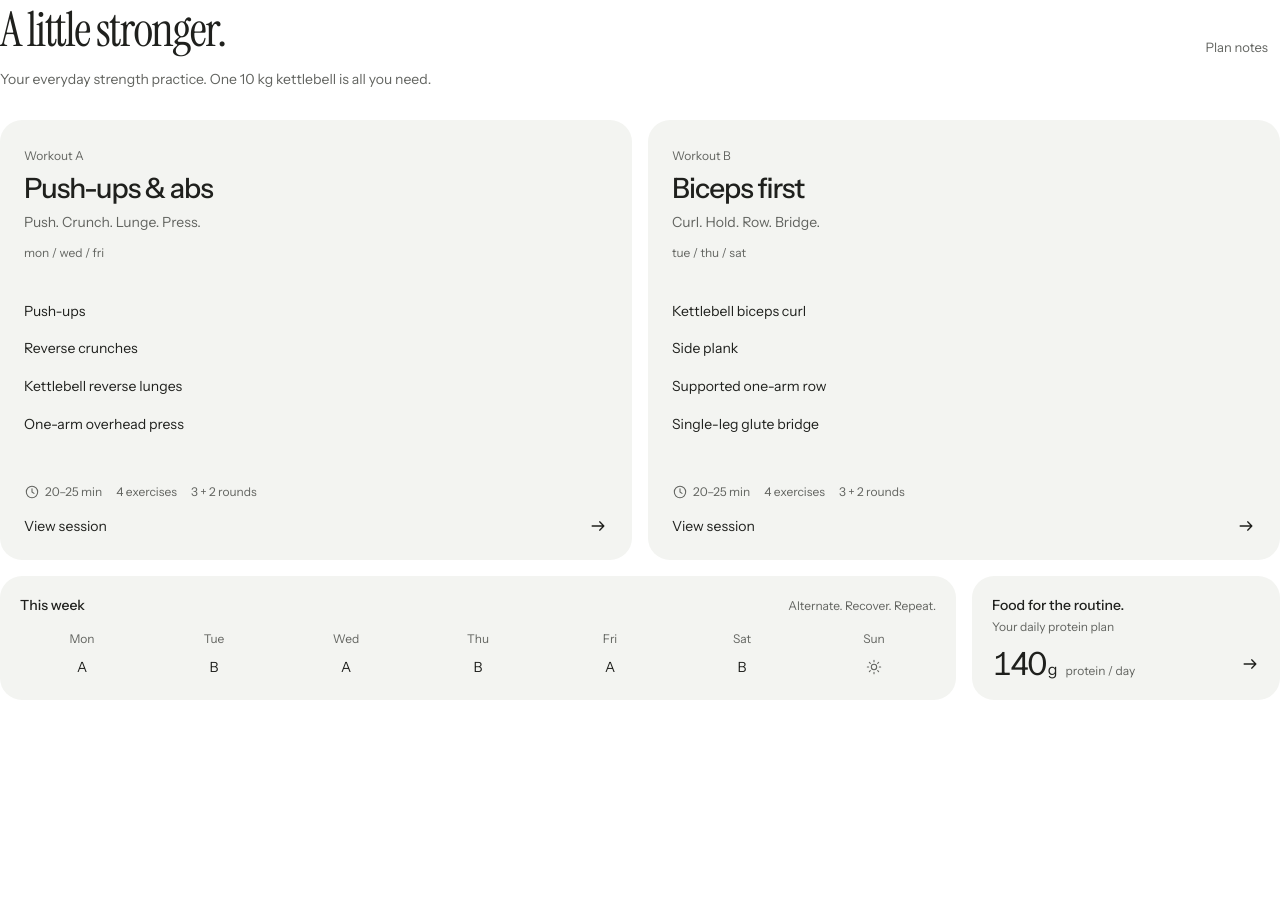
Scenario: shows the complete weekly rhythm and opens plan notes
This screenshot has width=1280, height=900.
Expected: the number of elements named "Workout A" is 3, [77,658,87,676]; [341,658,351,676]; [605,658,615,676]
Expected: the number of elements named "Workout B" is 3, [210,658,218,676]; [474,658,482,676]; [738,658,746,676]
Click the button "Plan notes".
click(1237, 47)  # box [1194,25,1279,69]
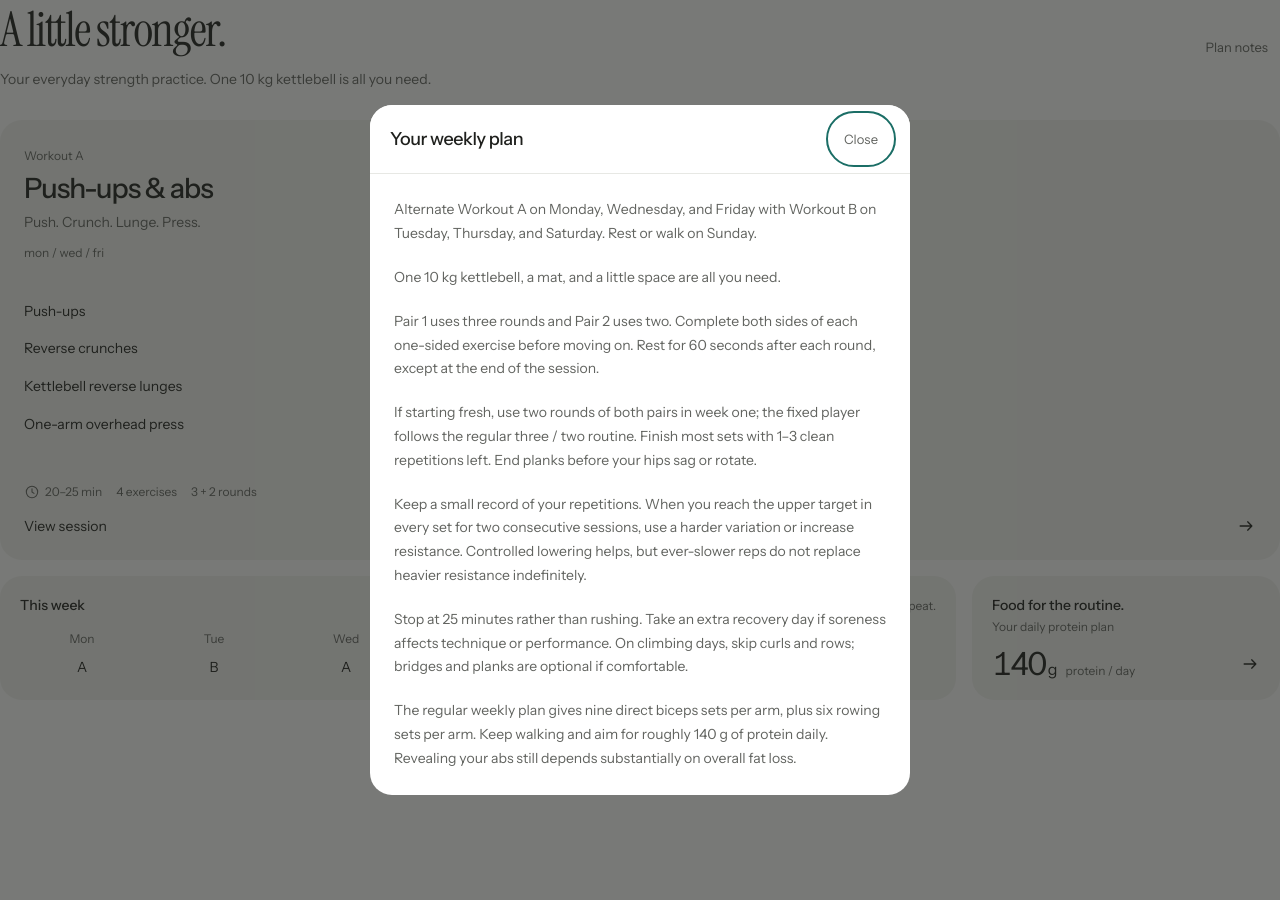
Expected: the dialog "Your weekly plan" shows "two rounds of both pairs in week one", [394,403,860,469]
Click the button "Close".
click(861, 139)  # box [832,117,890,161]
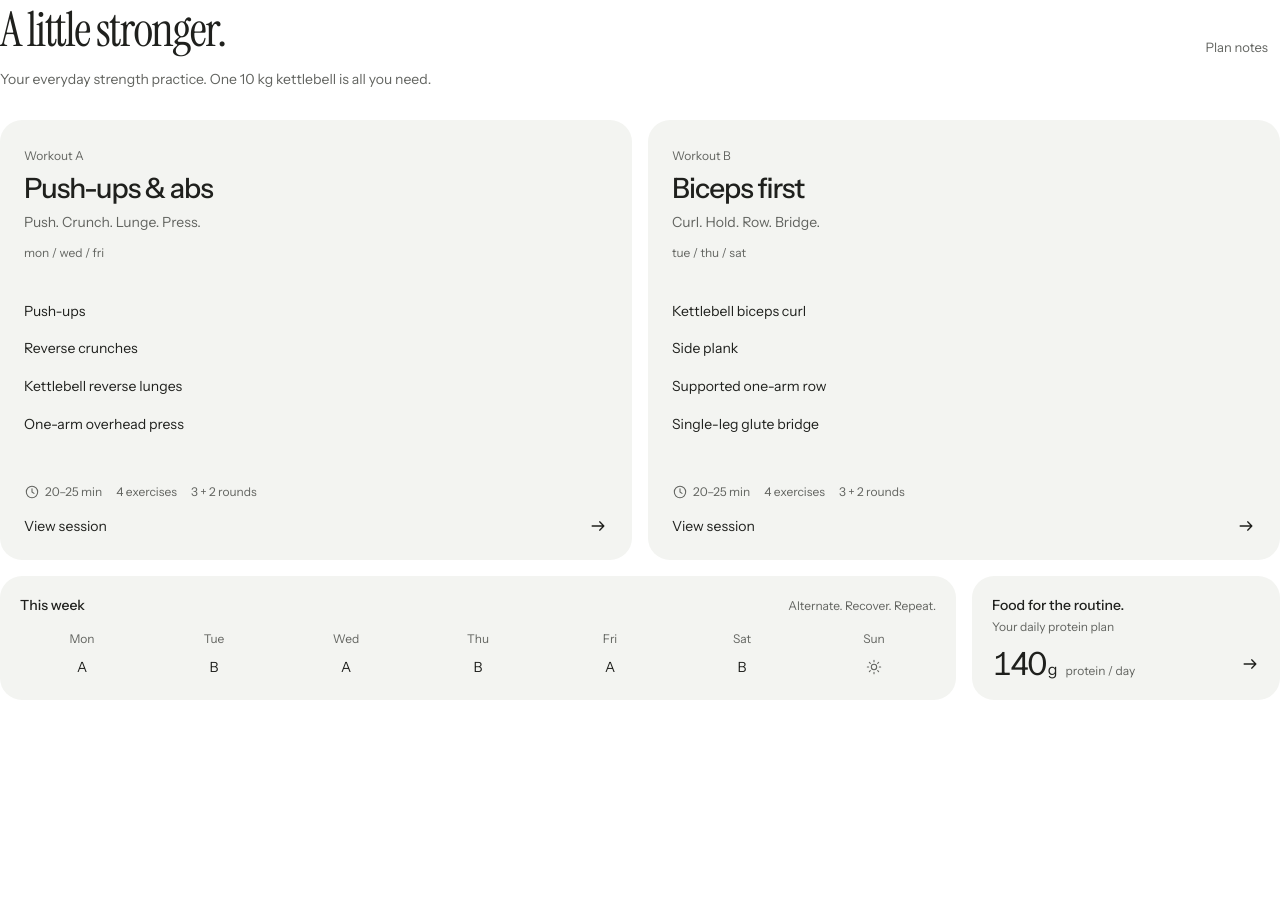
Expected: the dialog is gone
